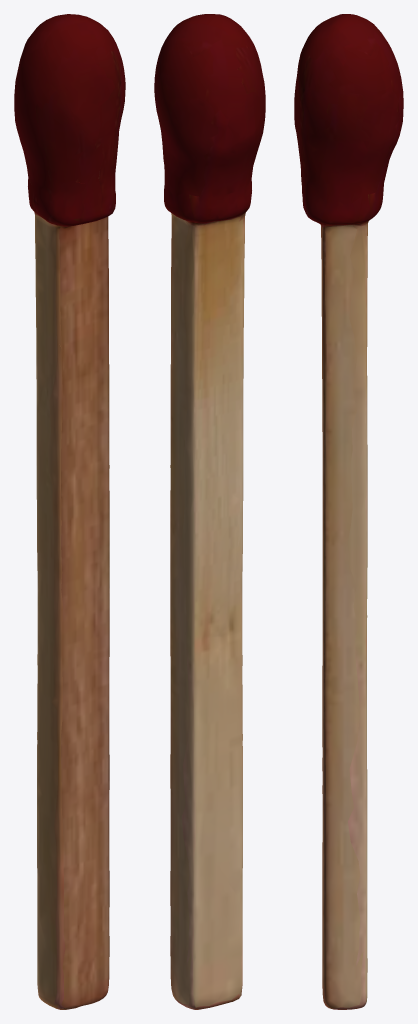
Rendered from match_box.glb.
3 views of the same model, side by side, from view 1: azimuth 30°, elevation 25°; view 2: azimuth 210°, elevation 25°; view 3: azimuth 270°, elevation 25° (orthographic).
Visible parts, largest first — view 1: match; view 2: match; view 3: match.
Boxes of the visible parts, left/top/right/bottom form: match: left=14, top=14, right=125, bottom=1009; match: left=154, top=14, right=265, bottom=1009; match: left=294, top=14, right=403, bottom=1009.
Size of the model in its own units: 0.0132 by 0.1305 by 0.0132.
Materials: 1 (1 with a texture image).
